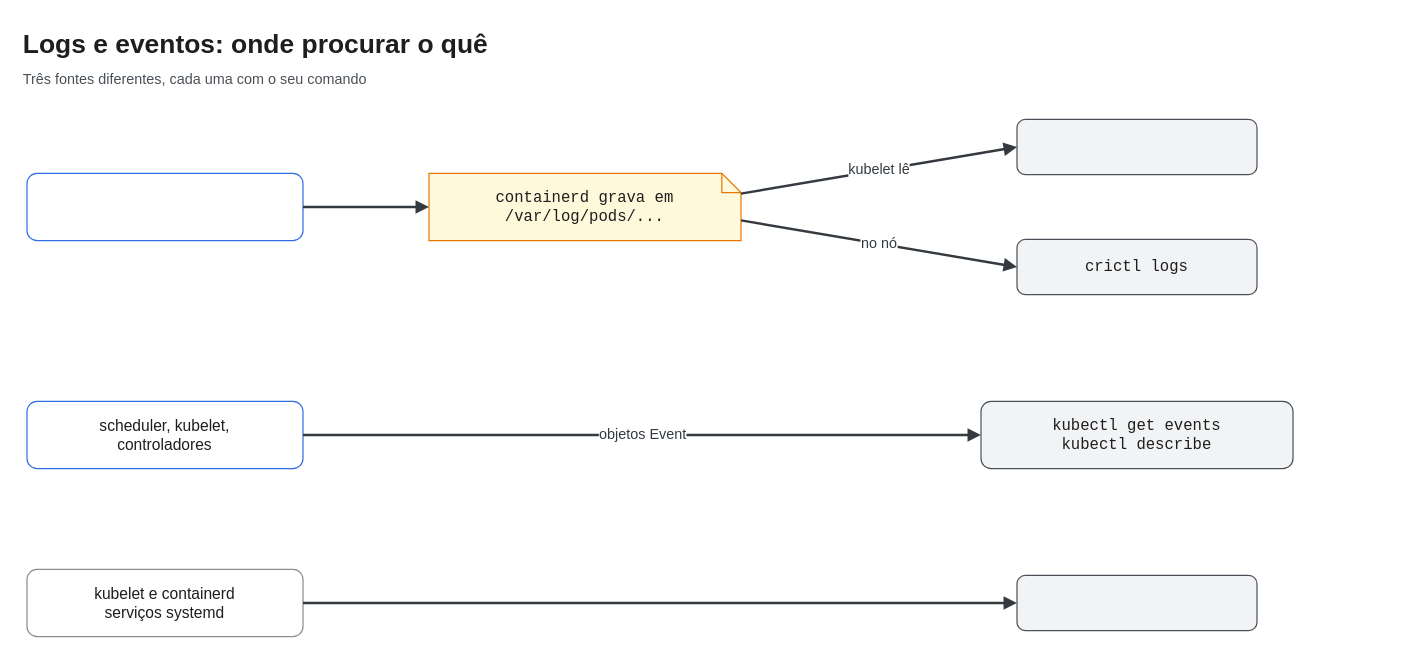
The diagram is 1409 pixels wide and 658 high, and some of its shapes have lost their labels. Here are the shapes that lost their labels. From the top down, the centre of each, then its label:
At (x=1136, y=146): "kubectl logs".
At (x=164, y=206): "app no container stdout / stderr".
At (x=1136, y=602): "journalctl -u ...".
